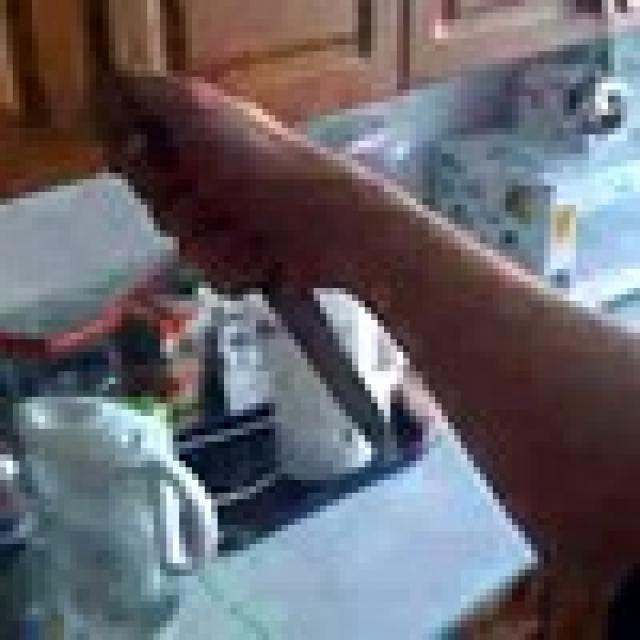Knife: (116, 90, 390, 473)
